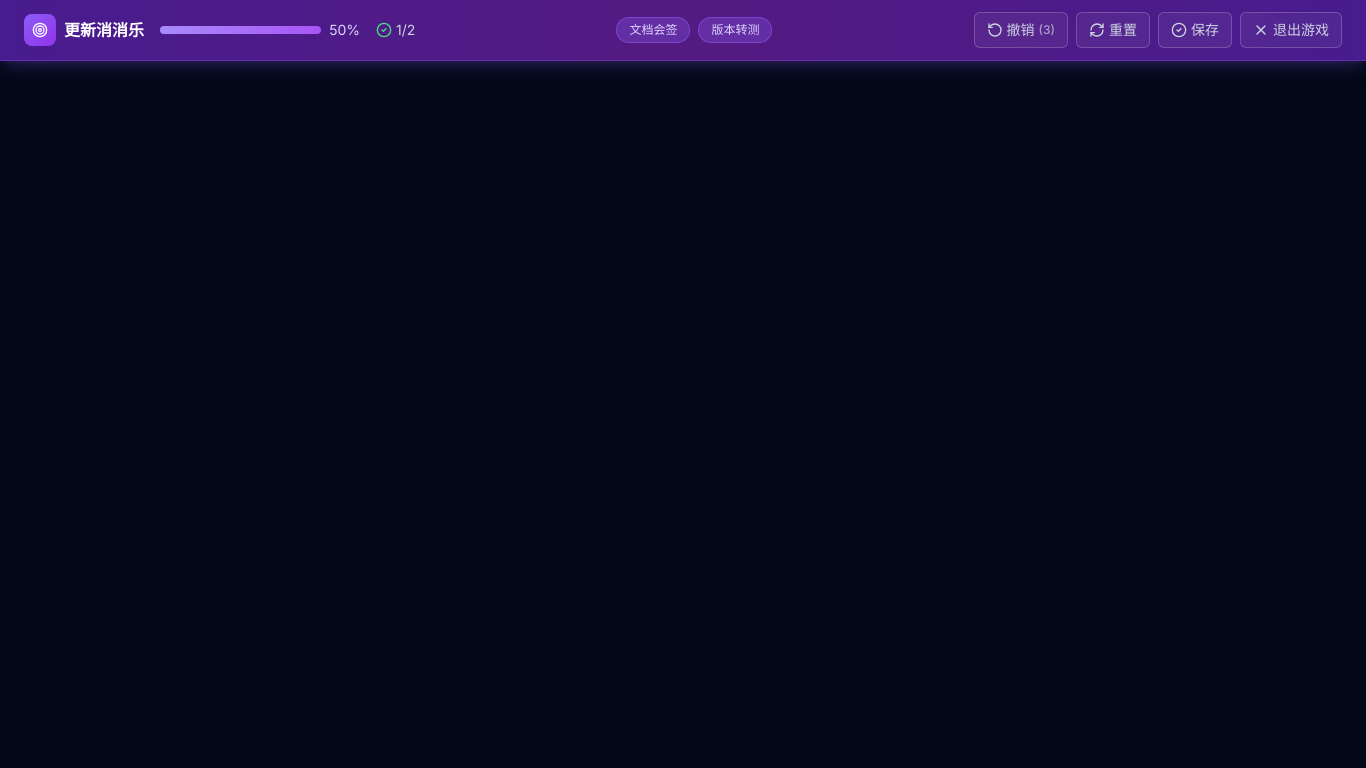
Test: GameStatusBar › reset dialog › should show reset confirmation dialog
Click the button "重置": {"x": 1113, "y": 30} [1076,12,1150,48]
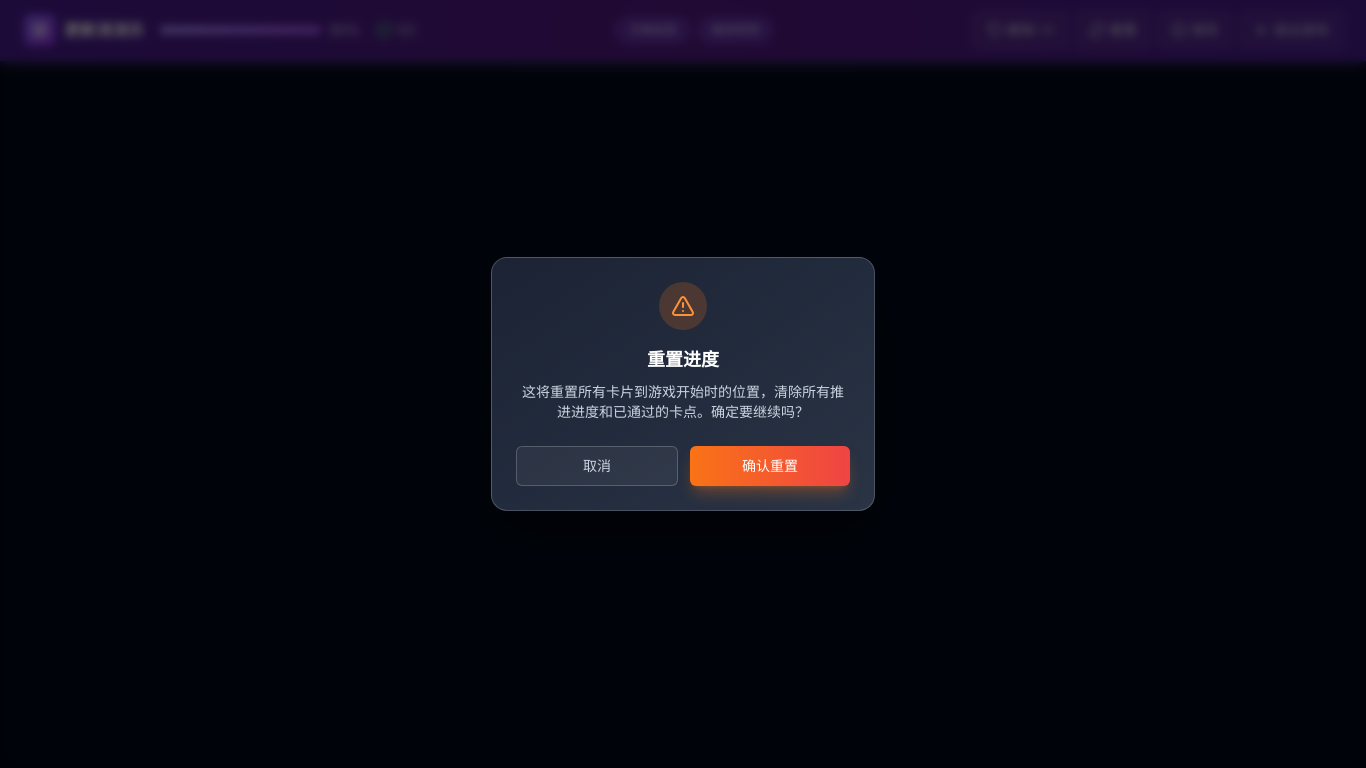
Check: the heading "重置进度" is shown, box [647,349,719,370]
